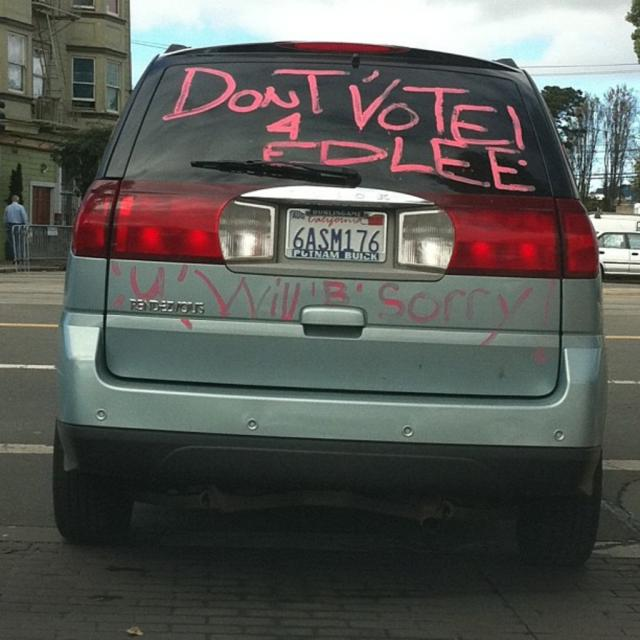car: (52, 34, 608, 575), (595, 236, 638, 272)
